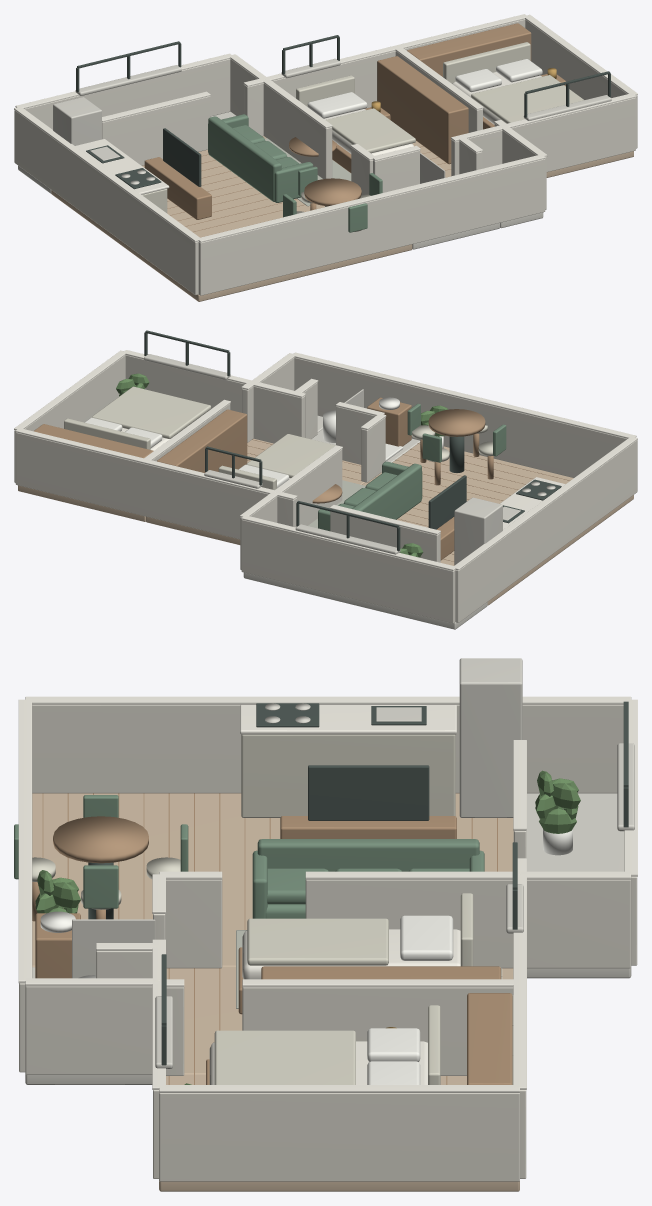
The model's file is moradas-plan-2bed.glb.
The picture shows the model from 3 angles, top to bottom: view 1: azimuth 30°, elevation 25°; view 2: azimuth 150°, elevation 25°; view 3: azimuth 270°, elevation 25°; orthographic projection. The views are drawn at different scales.
Visible parts, largest first — view 1: architecture_plaster, architecture_ivory, living_floor, living_sage, single_oak, bedroom_linen, living_oak, single_linen, bedroom_oak, kitchen_stone, architecture_stone, architecture_charcoal (+10 smaller); view 2: architecture_plaster, architecture_ivory, living_floor, bedroom_linen, living_sage, single_oak, living_oak, kitchen_stone, single_linen, architecture_stone, living_charcoal, architecture_charcoal (+12 smaller); view 3: architecture_plaster, architecture_ivory, living_floor, living_sage, kitchen_stone, kitchen_linen, bedroom_linen, living_oak, single_linen, living_charcoal, living_stone, single_floor (+15 smaller).
Part boxes in pixels (x1,y1,x2,y2): architecture_plaster: (14, 19, 637, 295); architecture_ivory: (14, 14, 637, 242); living_floor: (51, 136, 412, 301); living_sage: (208, 114, 382, 232); single_oak: (332, 56, 468, 177); bedroom_linen: (443, 42, 584, 123); living_oak: (144, 137, 361, 237); single_linen: (296, 61, 415, 153); bedroom_oak: (407, 23, 565, 129); kitchen_stone: (53, 97, 543, 228); architecture_stone: (75, 58, 611, 120); architecture_charcoal: (76, 35, 610, 117); architecture_plaster: (14, 355, 637, 623); architecture_ivory: (14, 350, 637, 570); living_floor: (362, 442, 633, 605); bedroom_linen: (64, 386, 211, 449); living_sage: (318, 403, 506, 531); single_oak: (157, 409, 360, 480); living_oak: (312, 409, 569, 561); kitchen_stone: (317, 415, 555, 565); single_linen: (218, 434, 335, 489); architecture_stone: (144, 354, 400, 554); living_charcoal: (428, 436, 466, 529); architecture_charcoal: (144, 330, 400, 551); architecture_plaster: (19, 704, 637, 1181); architecture_ivory: (18, 696, 637, 1092); living_floor: (32, 793, 513, 967); living_sage: (14, 795, 484, 918); kitchen_stone: (25, 658, 522, 1084); kitchen_linen: (241, 734, 455, 817); bedroom_linen: (214, 995, 513, 1084); living_oak: (32, 793, 497, 929); single_linen: (247, 893, 502, 979); living_charcoal: (88, 765, 429, 919); living_stone: (526, 793, 631, 978); single_floor: (166, 967, 513, 1074).
Size of the model in its own units: 7.76 by 1.39 by 5.19.
